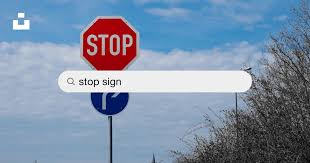stop sign: (81, 16, 139, 68)
